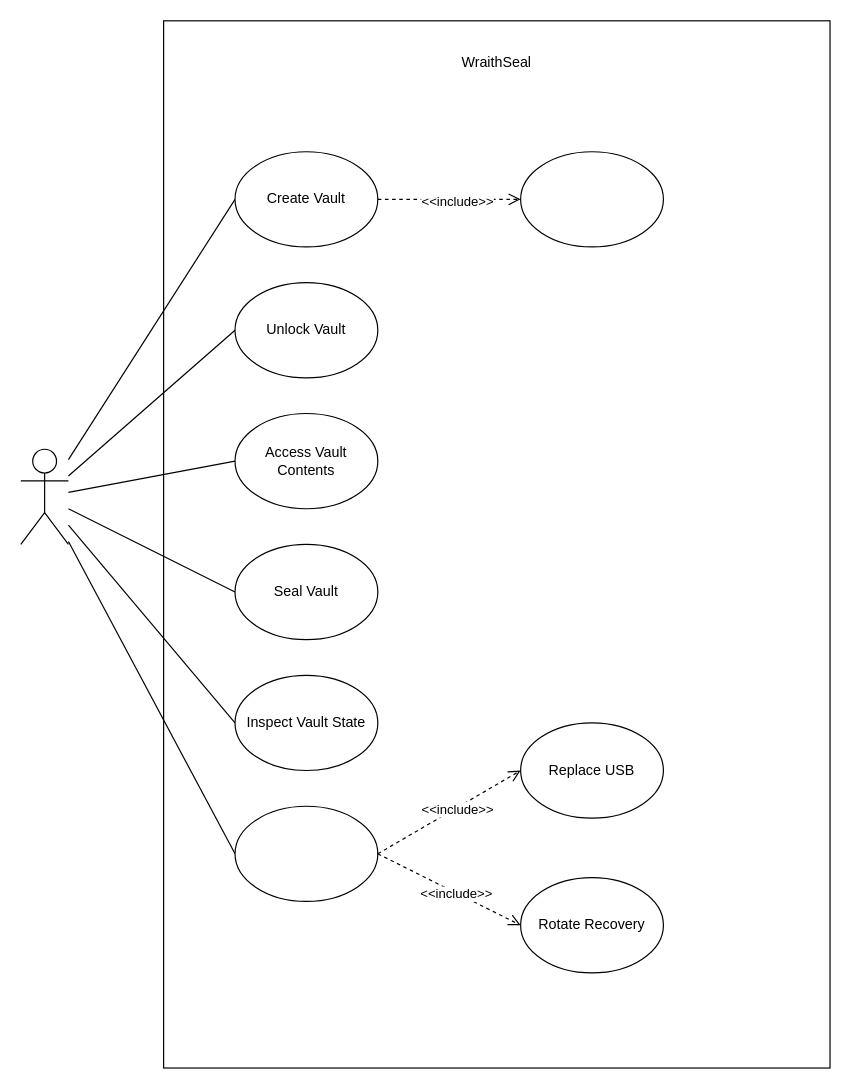
This 851x1089 diagram has some shape labels left out. The shapes that lost their labels are listed below. From the top down, each one's centre as x and y in pixels, then its label:
[591,199]: Enroll USB Device
[44,496]: User
[306,853]: Recover Access
